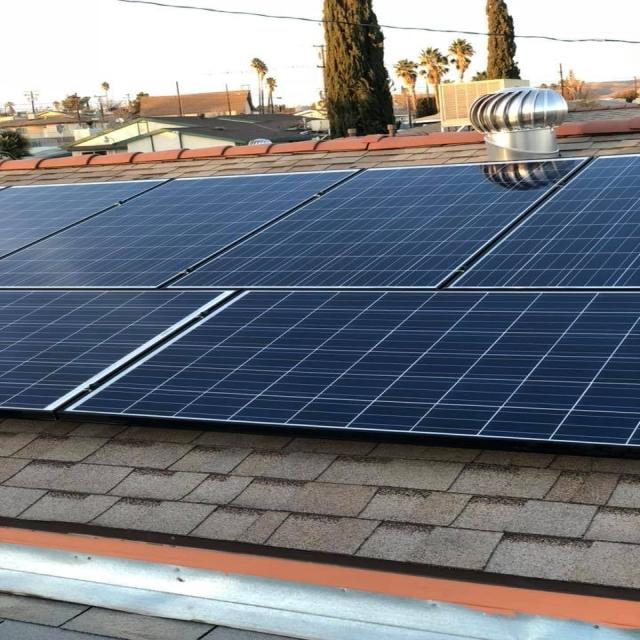clean-solar-panel: (2, 155, 637, 450)
